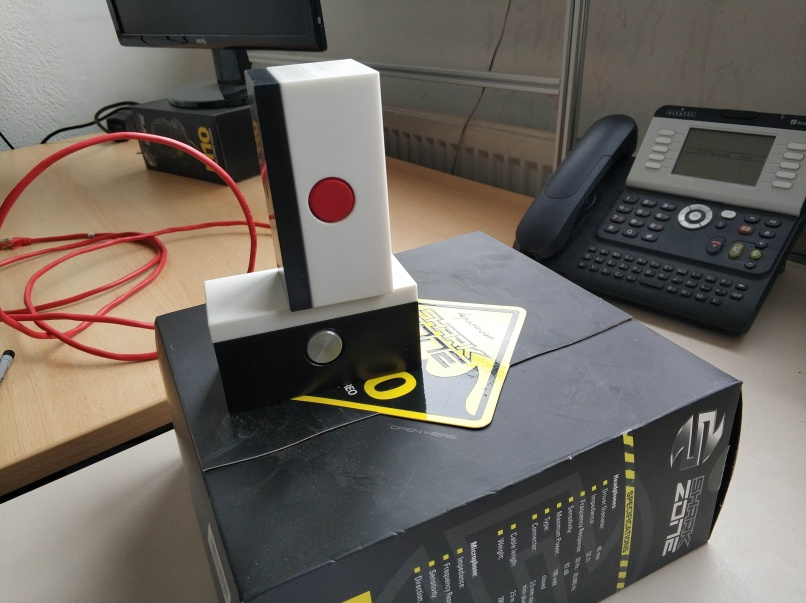black+white+red: (241, 57, 395, 314)
white+black+silver: (202, 249, 423, 412)
